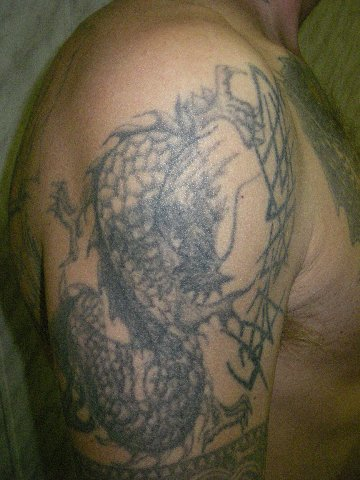tatu6_drakon: (27, 23, 291, 465)
